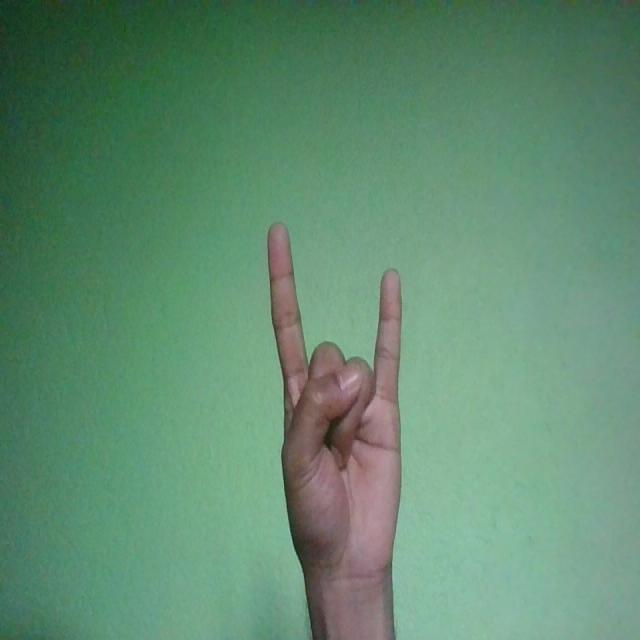open Plam: (269, 221, 404, 591)
